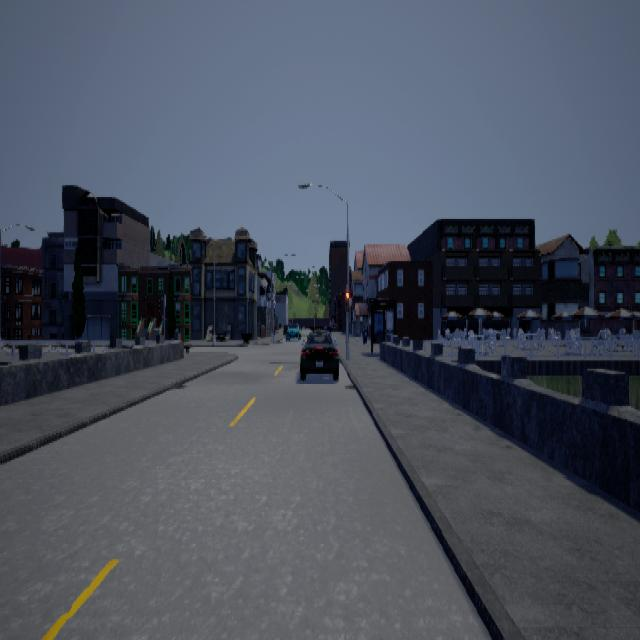vehicle: (299, 327, 338, 379)
